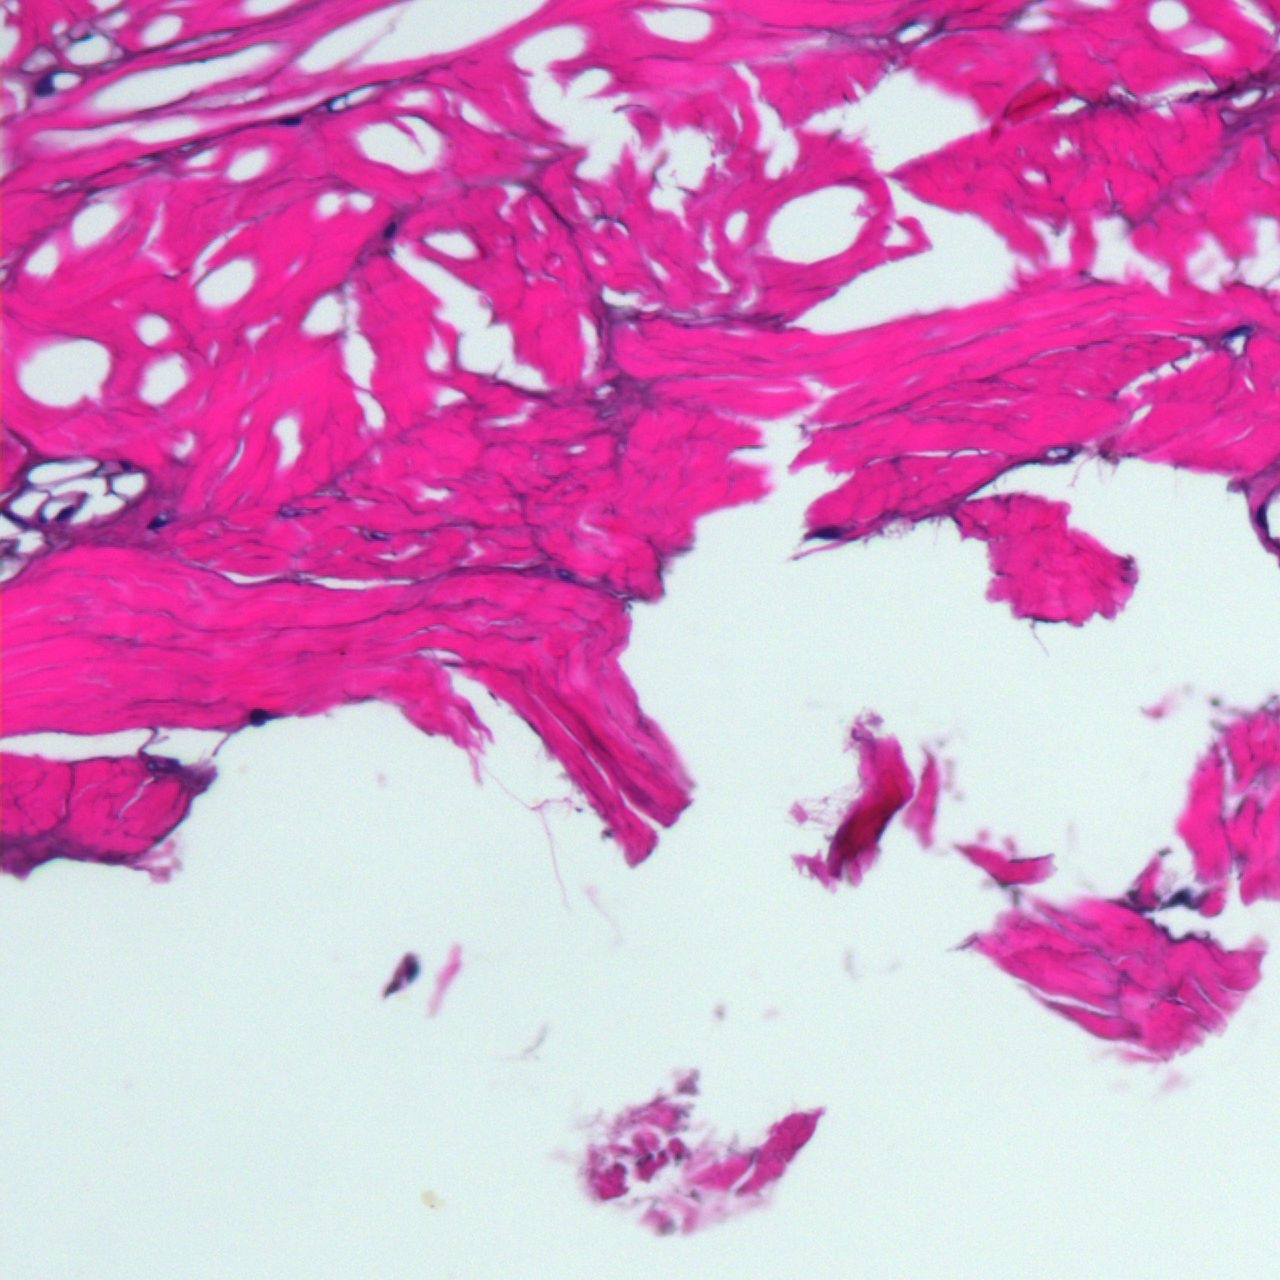nucleus-HE: (52, 504, 74, 524), (145, 513, 168, 530), (1225, 324, 1250, 338), (248, 706, 265, 726), (1170, 888, 1190, 904), (382, 222, 399, 239), (35, 79, 53, 95), (421, 1191, 438, 1207), (1257, 504, 1267, 529), (813, 527, 838, 538), (280, 117, 300, 125)
